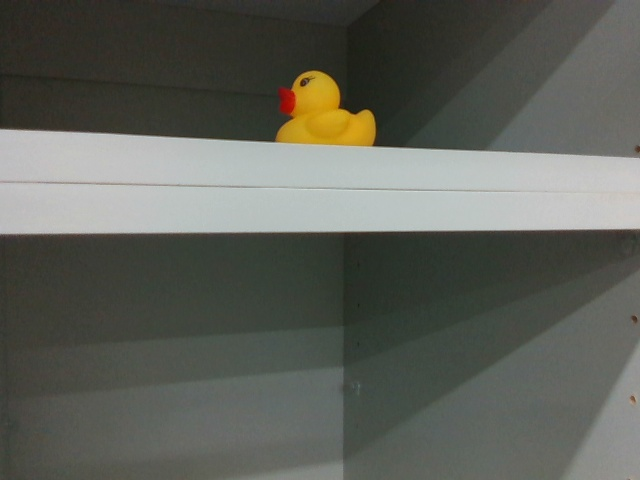duck: (268, 68, 381, 151)
